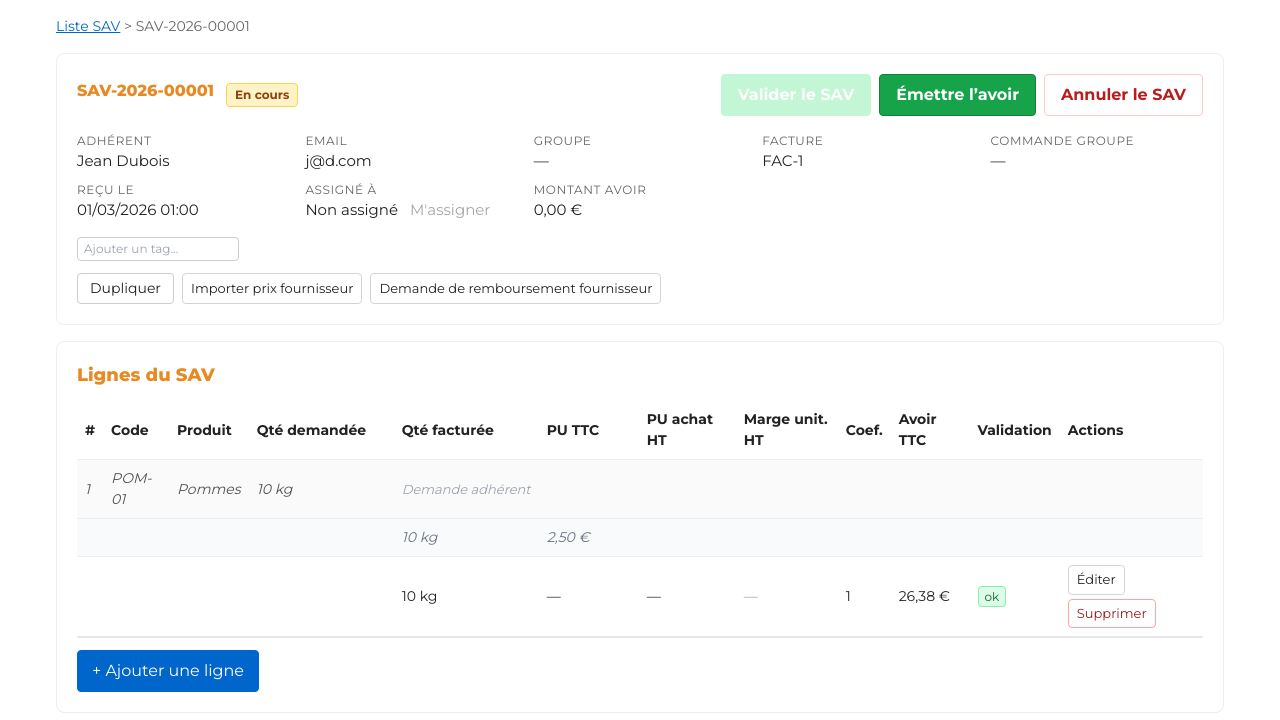
Scenario: V1.9-B S-03 — Mode édition in_progress : Row 1 + Row 3 éditables, Row 2 read-only › clic edit-line-{id} → inputs Row 1 (qtyRequested/unitRequested) + Row 3 (qtyArbitrated/unitArbitrated) ; Row 2 0 inputs
What coordinates should you click on to do the following:
click the button with test id "edit-line-100"
I would click on:
 (1096, 580)
Its box is left=1068, top=565, right=1125, bottom=594.
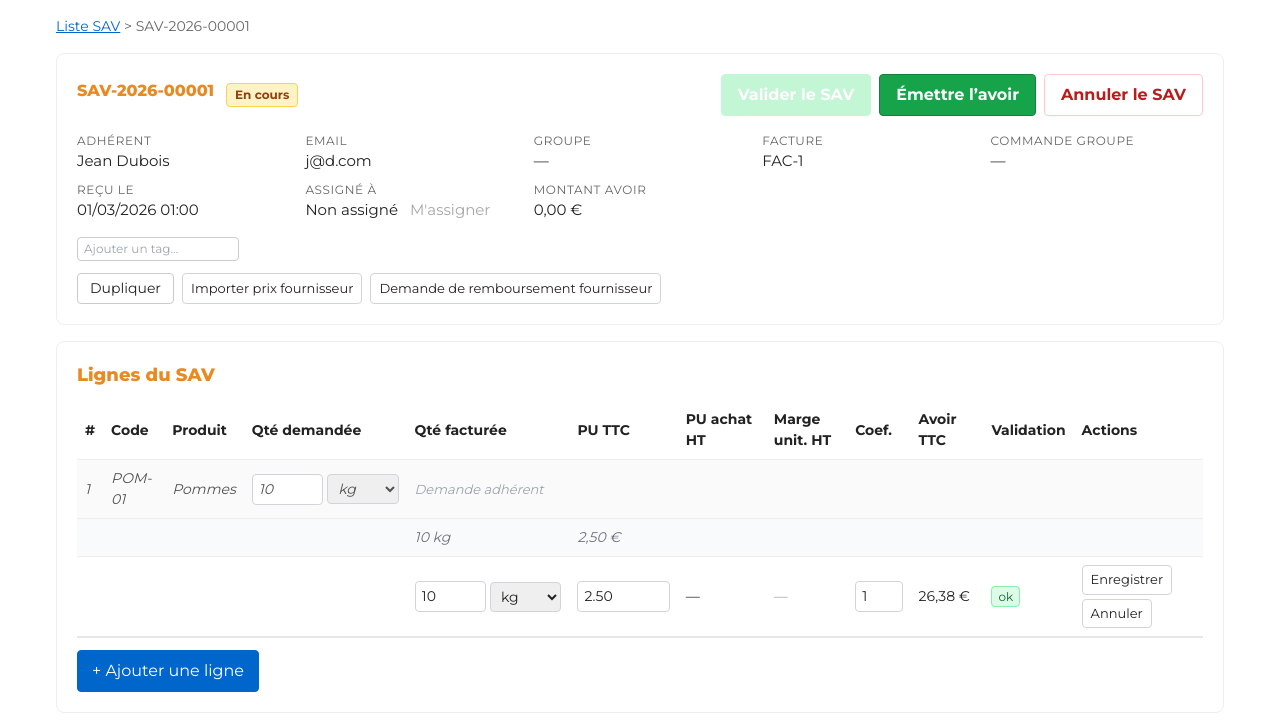
Check: the number field with test id "edit-qty-requested-100" is shown, box left=252, top=474, right=323, bottom=504
Check: the dropdown with test id "edit-unit-requested-100" is shown, box left=327, top=474, right=399, bottom=504
Check: the number field with test id "edit-qty-arbitrated-100" is shown, box left=415, top=581, right=486, bottom=612
